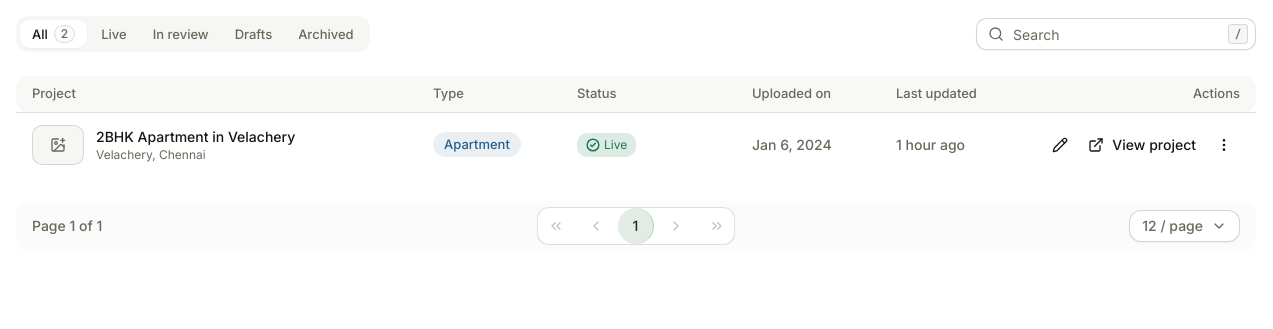
DesignerProjectsList › explains published on keyboard focus and dismisses on Escape
The image size is (1273, 329).
Focus the button with aria-label "Live details" at (607, 144), box 577,132 -> 636,156
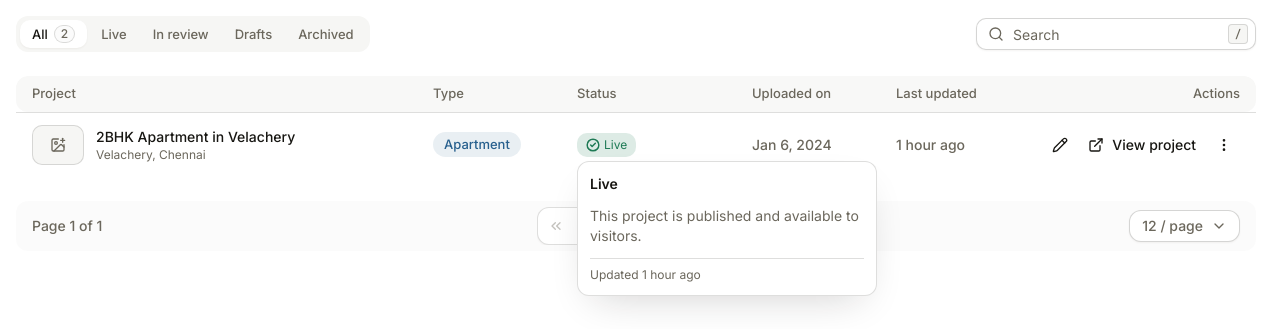
Now the tooltip shows "available to visitors", box 590,207 -> 859,244
Press Escape
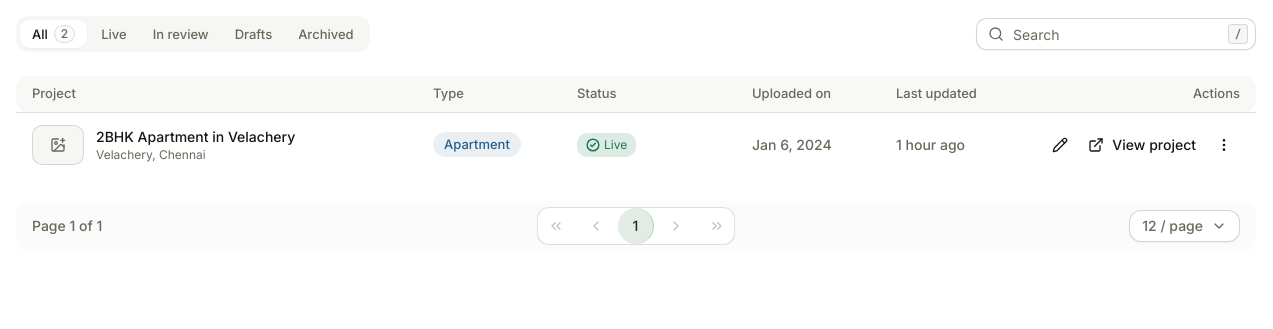
Now the tooltip "Live This project is published and available to visitors. Updated 1 hour ago" is gone
